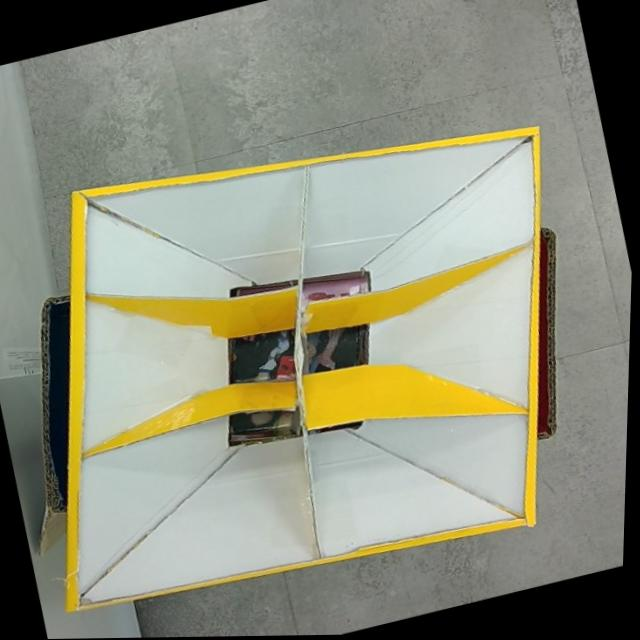box: (0, 79, 629, 640)
